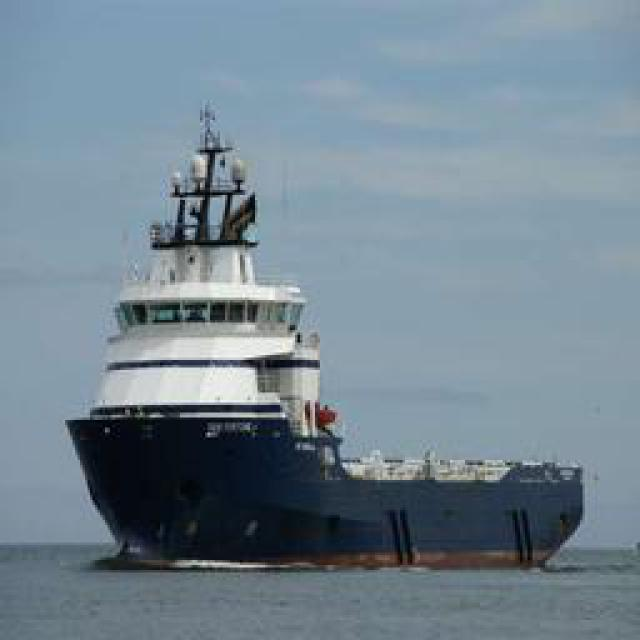Ship: (73, 90, 448, 570)
